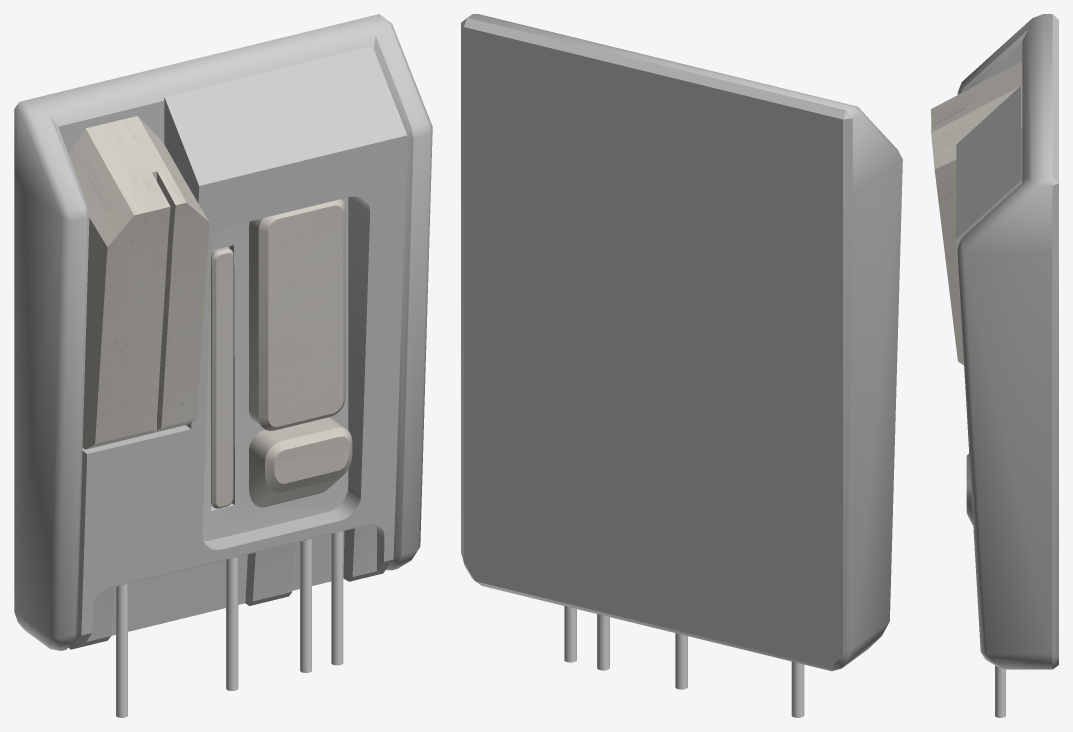
The model's file is KB3D_CBP_UtilityDevice_O.fbx.
3 renders of one model, left to right at view 1: azimuth 30°, elevation 25°; view 2: azimuth 150°, elevation 25°; view 3: azimuth 270°, elevation 25°, orthographic. The views are drawn at different scales.
Visible parts, largest first — view 1: KB3D_CBP_UtilityDevice_O_Main; view 2: KB3D_CBP_UtilityDevice_O_Main; view 3: KB3D_CBP_UtilityDevice_O_Main.
Boxes of the visible parts, x1,y1,x2,y2 form: KB3D_CBP_UtilityDevice_O_Main: (14,14,432,717); KB3D_CBP_UtilityDevice_O_Main: (461,14,902,717); KB3D_CBP_UtilityDevice_O_Main: (931,14,1058,717).
Size of the model in its own units: 73.77 by 116 by 23.59.
